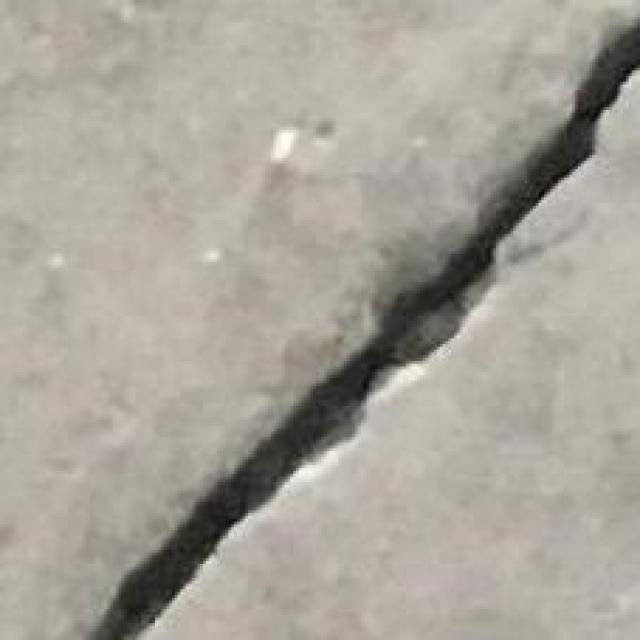diagonal crack: (91, 21, 640, 639)
